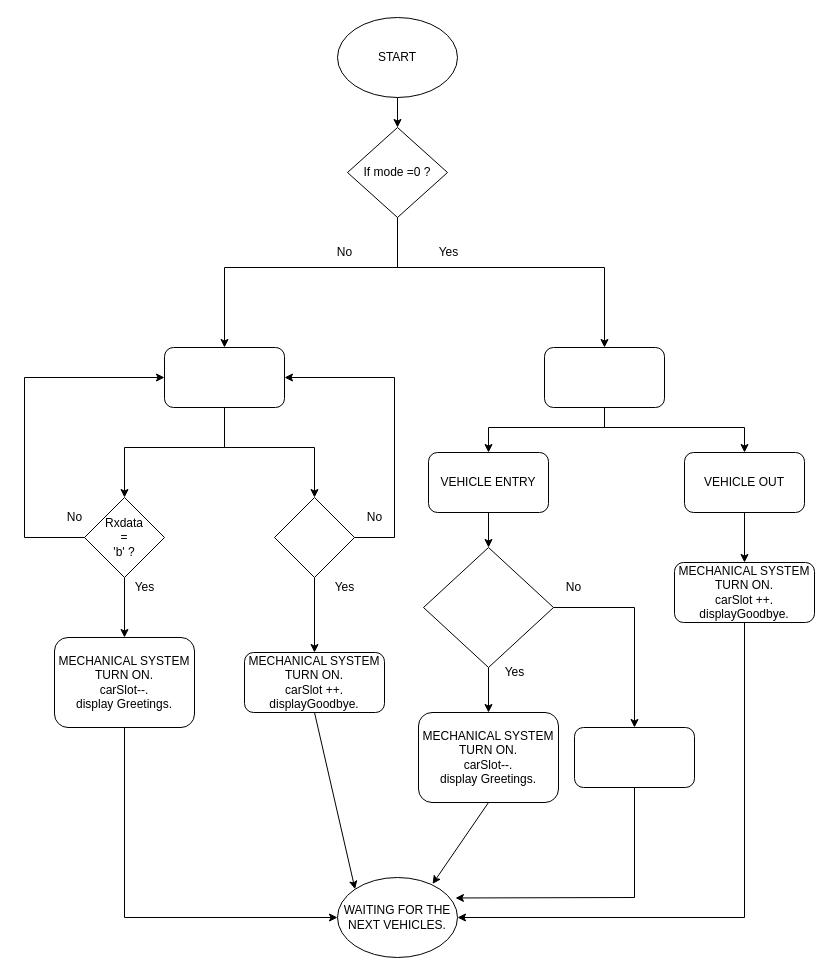
Image size: 832x975. Some labels were removed from this diagram. The shapes that lost their labels are listed below. From the top down, each one's centre as x and y in pixels, then its label:
(x=224, y=377): WAIT FOR DATA
(x=604, y=377): WAIT FOR VEHICLE
(x=314, y=537): Rxdata = 'a' ?
(x=488, y=607): CHECK FOR FREE SLOT
(x=634, y=757): display Sorry.
